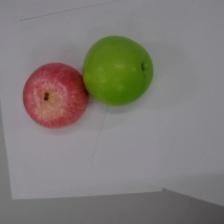green: (81, 35, 154, 107)
red: (22, 61, 90, 130)
